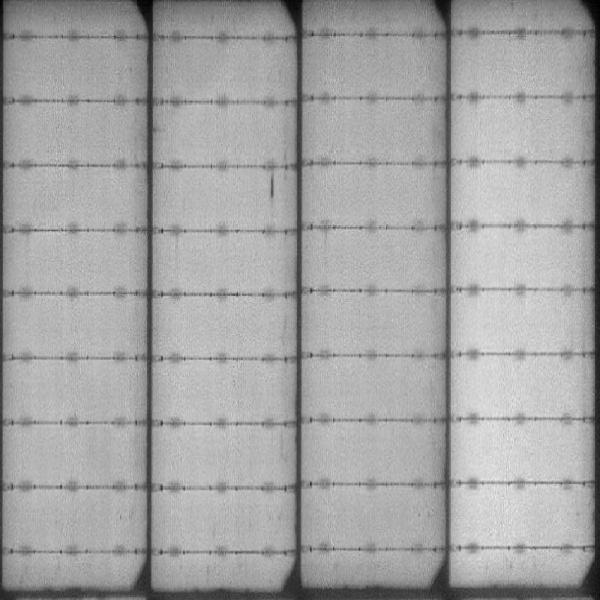scratch: (268, 174, 277, 202)
